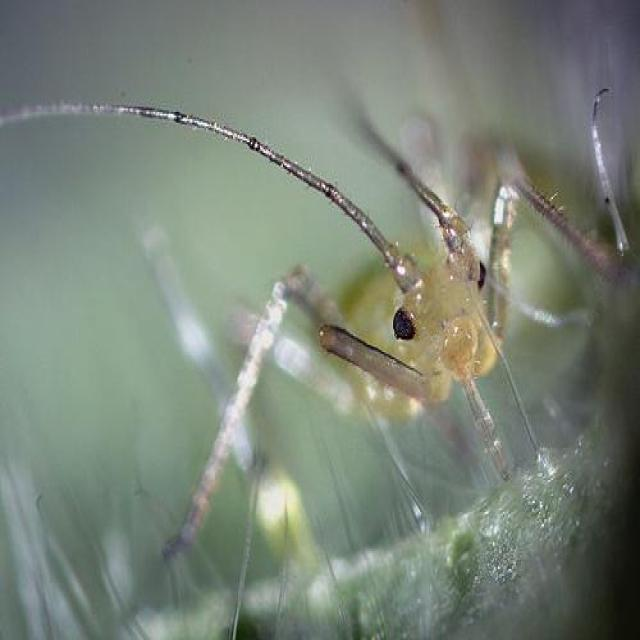Aphids: (165, 76, 609, 536)
